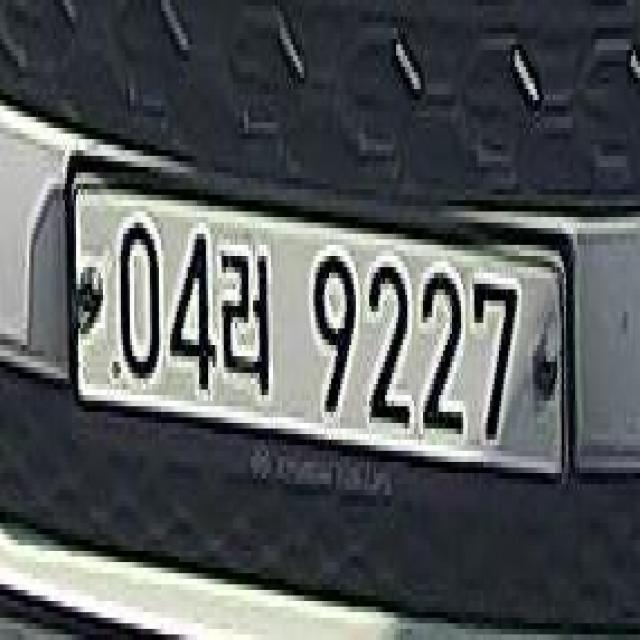illegal_plate: (71, 152, 576, 515)
